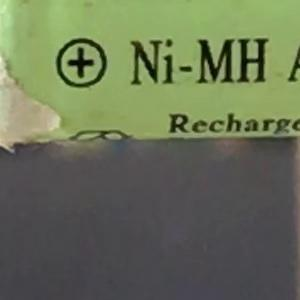keyword: (121, 28, 273, 95)
